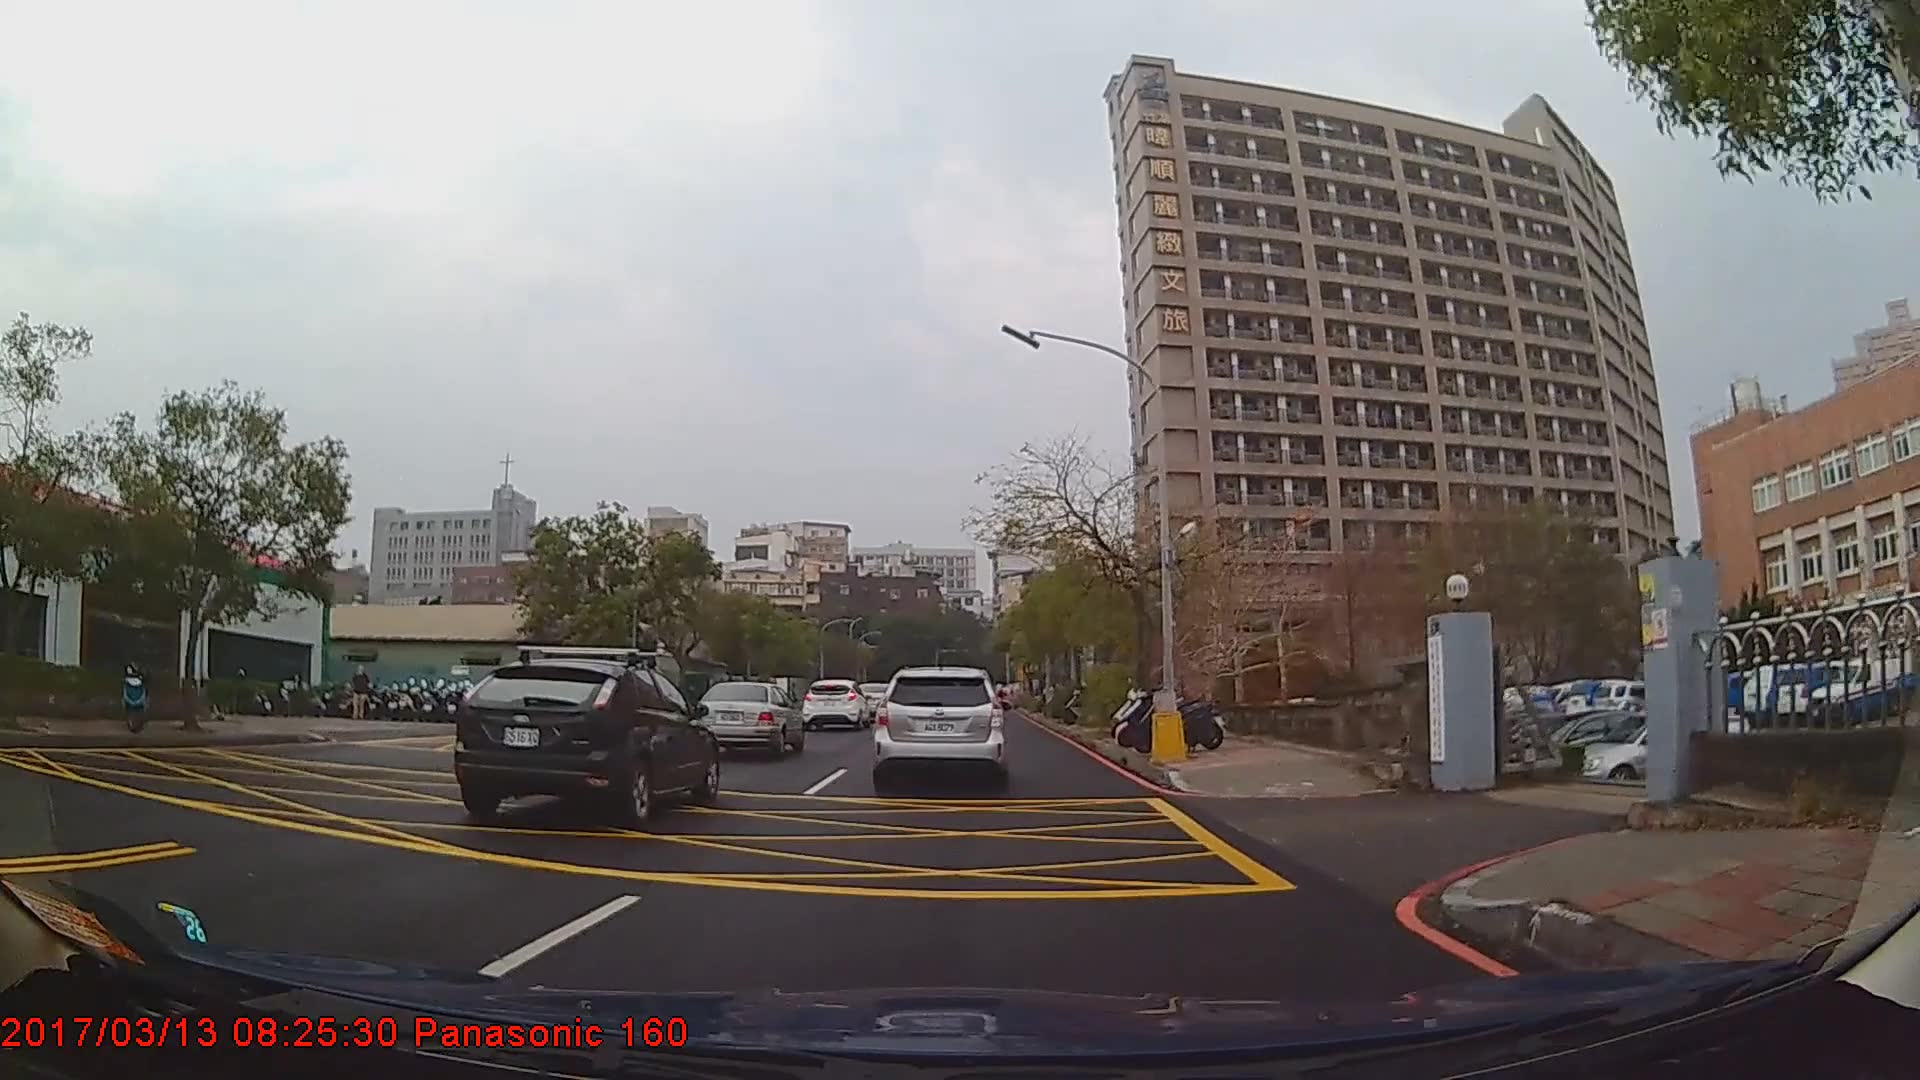pedestrian: (352, 663, 372, 722)
vehicle: (451, 658, 717, 828), (873, 666, 1003, 786), (693, 680, 805, 758), (802, 678, 870, 732)
